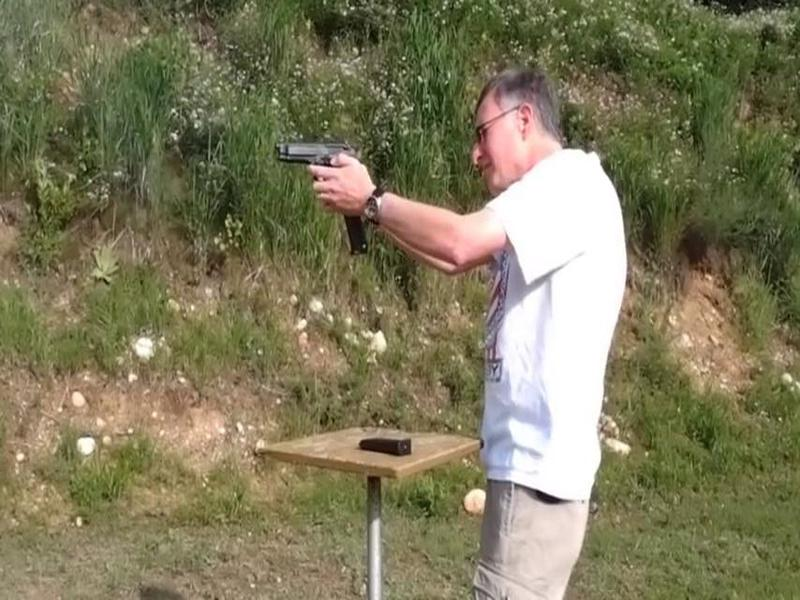Pistola: (279, 132, 374, 211)
